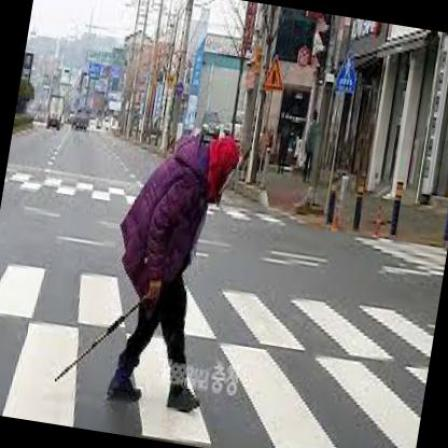silver: (55, 115, 242, 415)
